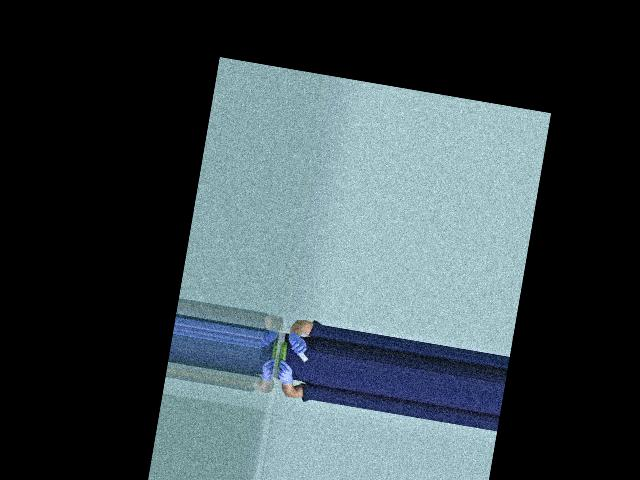cucumber: (277, 340, 288, 369)
